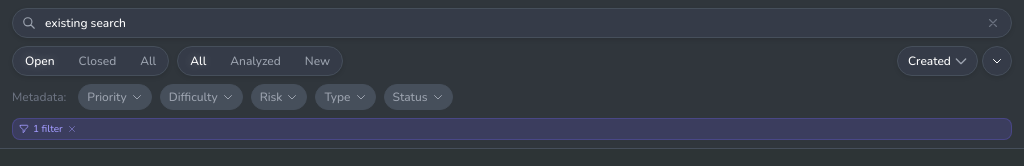
IssueFilters › Search Input › clears search when clear button is clicked
Click the button named "Clear search" at (993, 23), box [982,12,1004,34]
Wait 300 ms
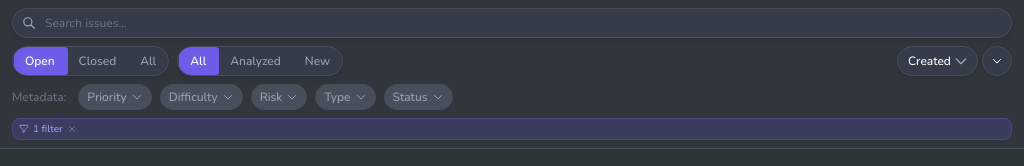
Expected: the field with placeholder "Search issues..." is empty, [12,8,1012,38]
